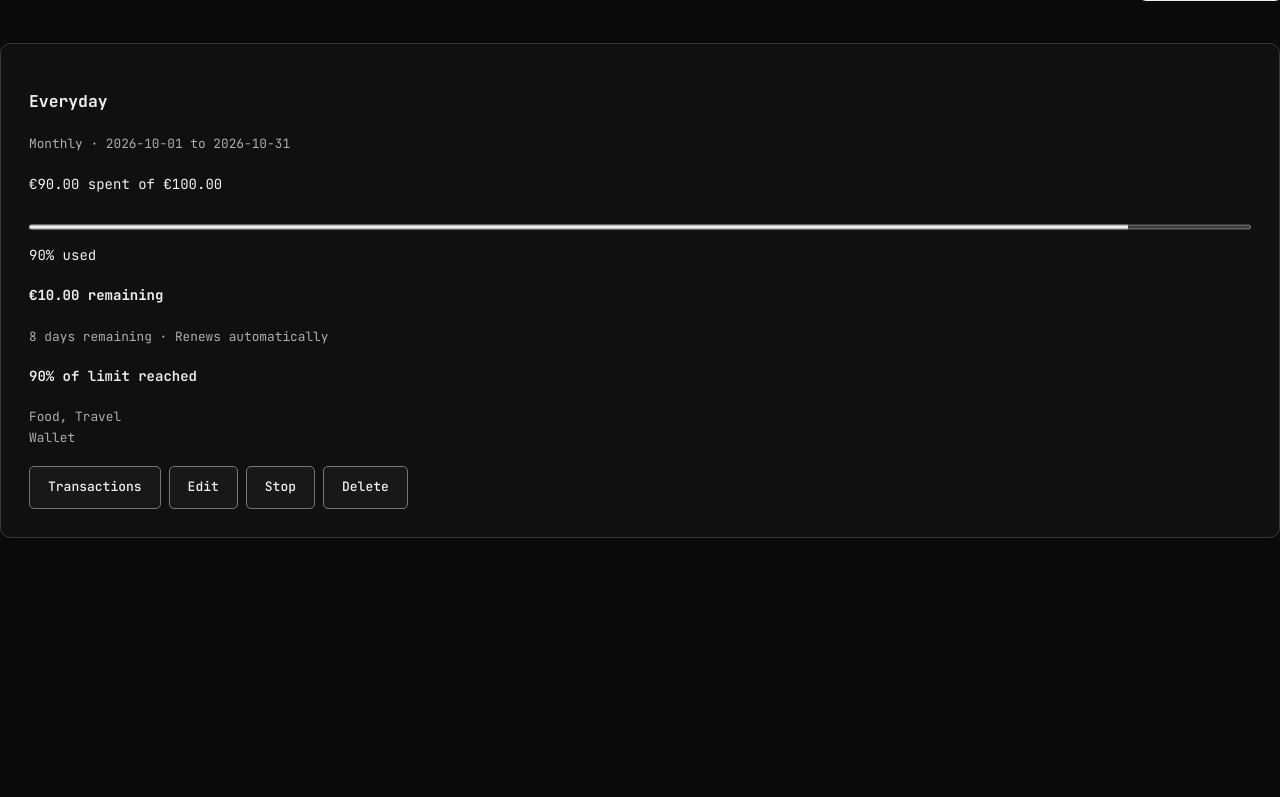
Scenario: retains edits and reports a failed save
Click the button "Edit".
click(203, 488)  # box x1=169 y1=466 x2=238 y2=509
(page scrolled)
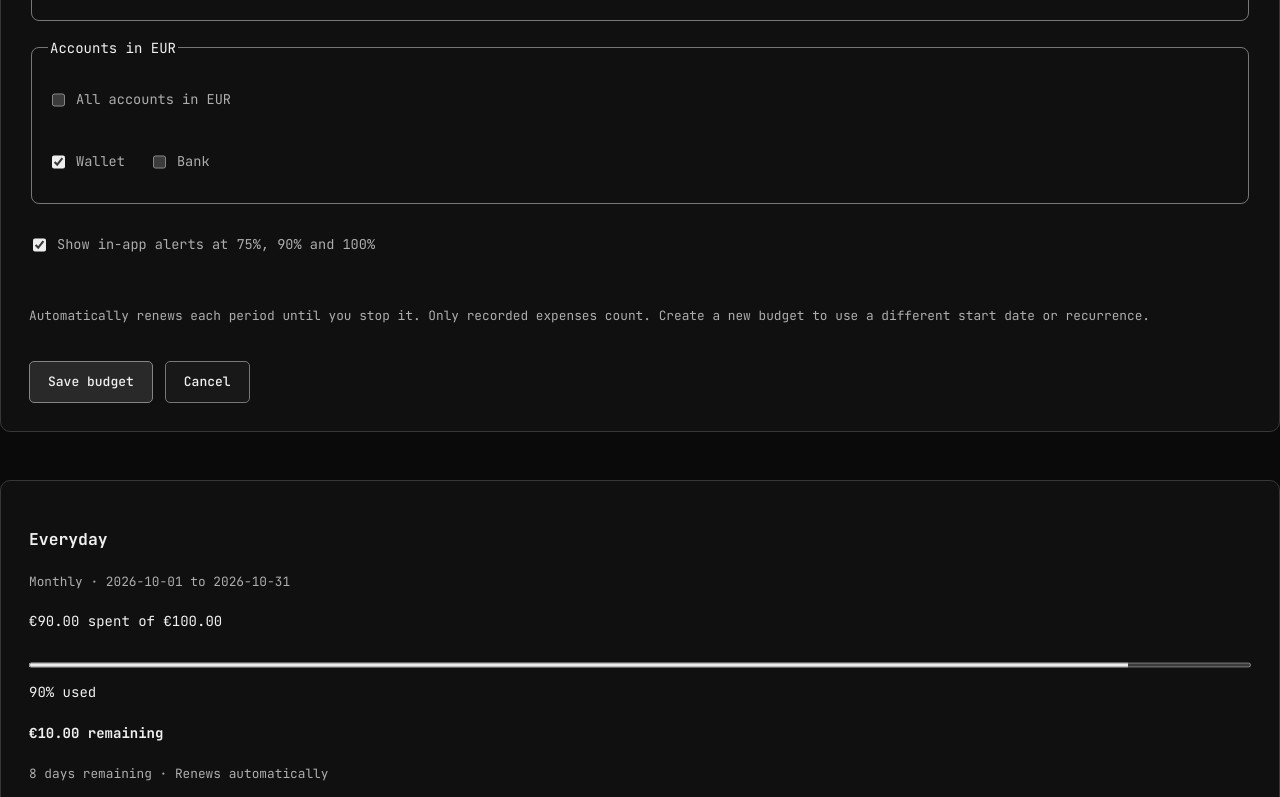
Click the button "Save budget".
click(91, 382)  # box x1=29 y1=361 x2=153 y2=403
(page scrolled)
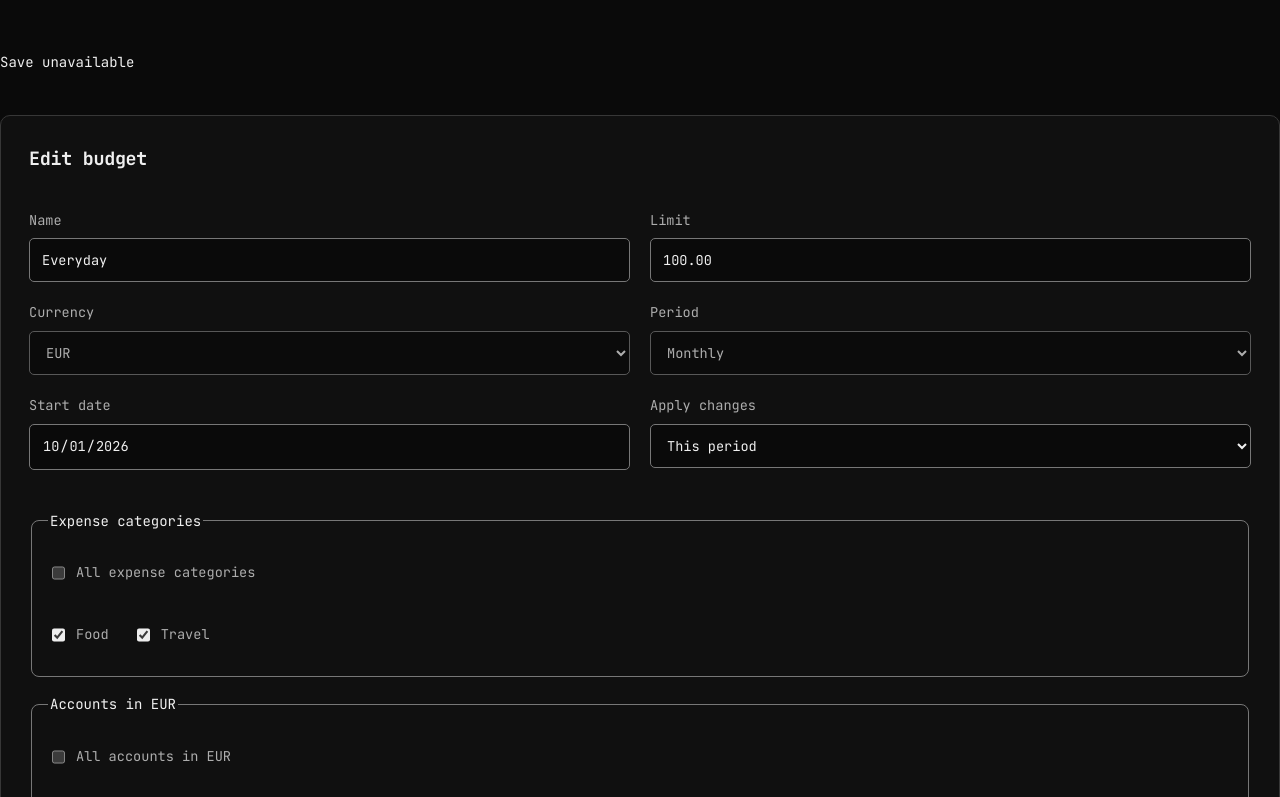
expect the field labelled "Name" holds "Everyday": met, box x1=29 y1=238 x2=630 y2=282
expect the message reads "Save unavailable": met, box x1=0 y1=53 x2=134 y2=71
